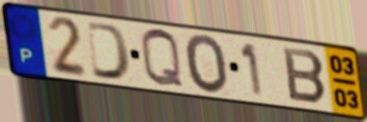1: (237, 41, 265, 98)
2: (45, 15, 89, 79)
B: (281, 45, 330, 107)
D: (84, 20, 134, 83)
O: (183, 32, 231, 96)
Q: (138, 27, 186, 91)
